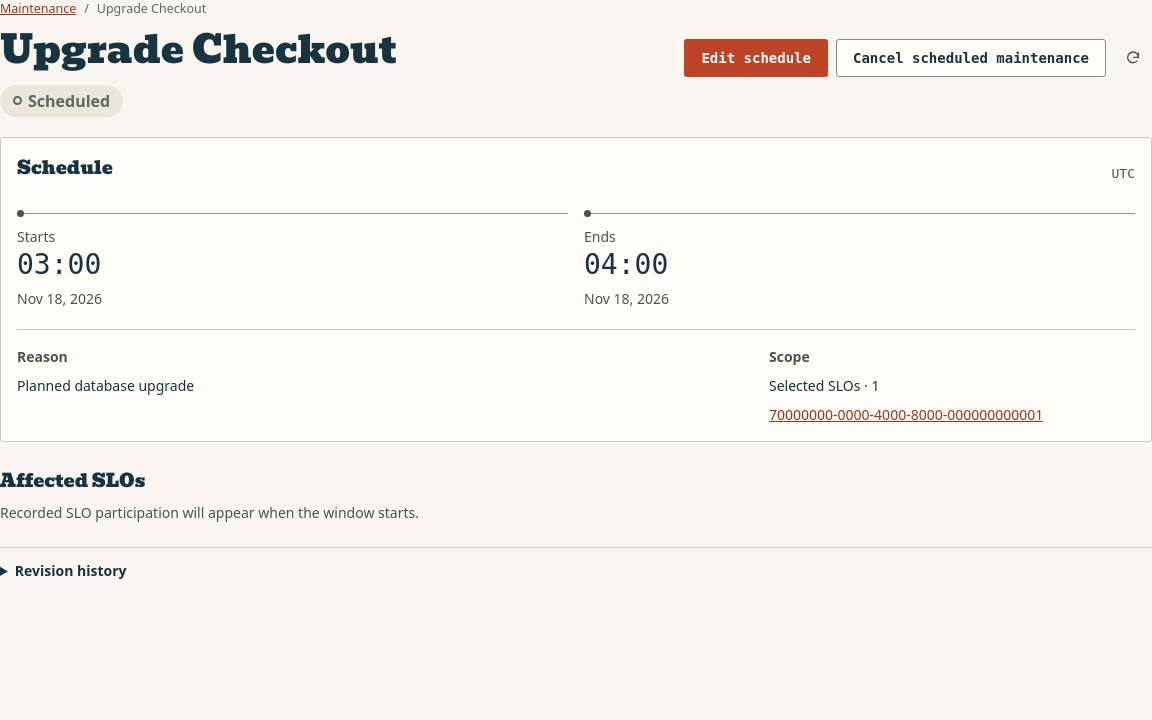
Scenario: allows dismissal while checking a revision and aborts the pending read
The image size is (1152, 720).
Click the button "Cancel scheduled maintenance" at (971, 58), box x1=836 y1=39 x2=1106 y2=77
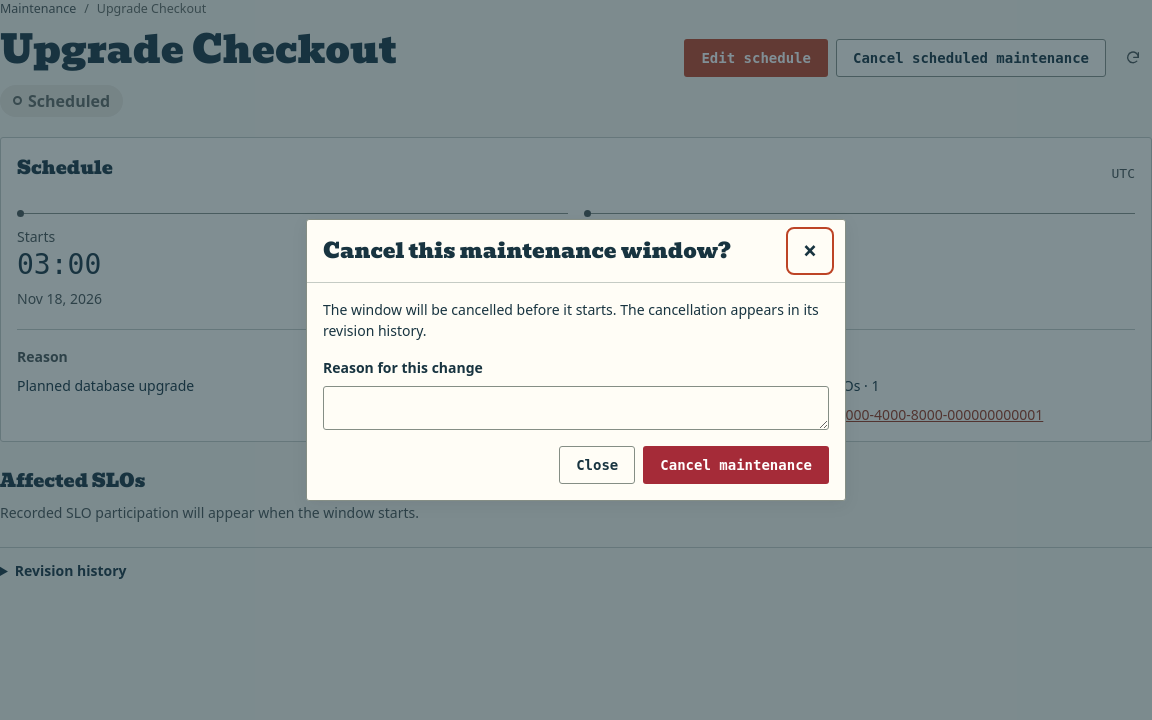
Type "Postpone the work." into the text box labelled "Reason for this change" at (576, 408), box x1=323 y1=386 x2=829 y2=430
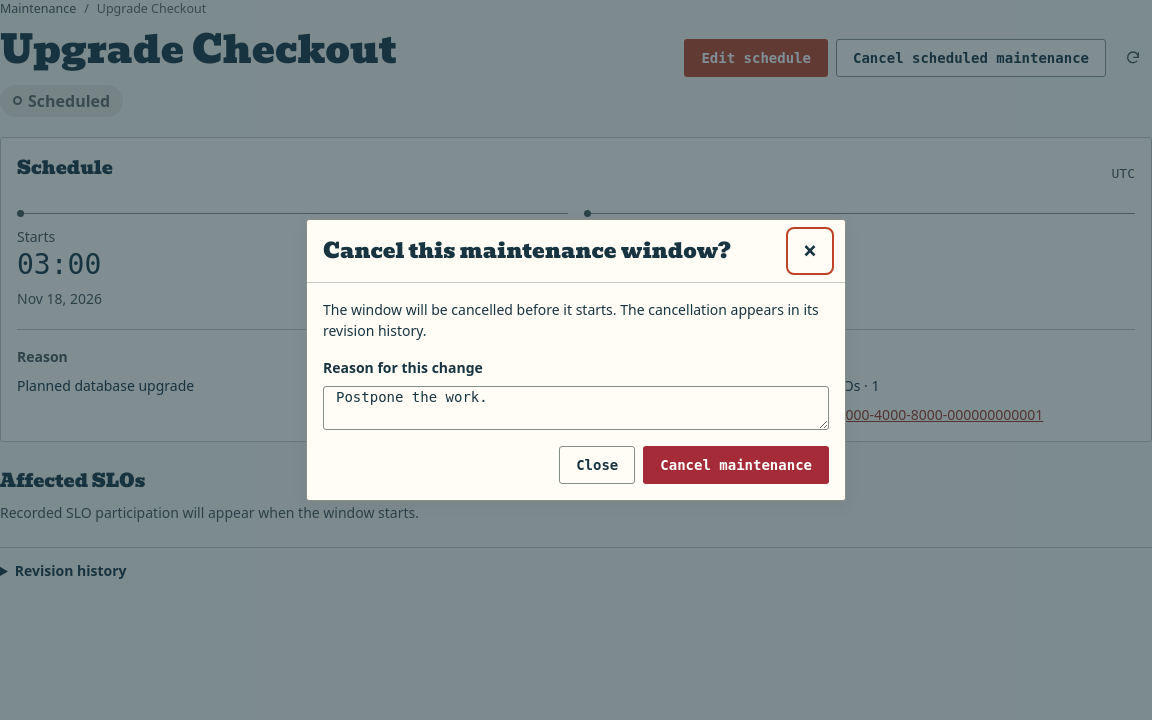
Click the button "Cancel maintenance" at (736, 465), box x1=643 y1=446 x2=829 y2=484
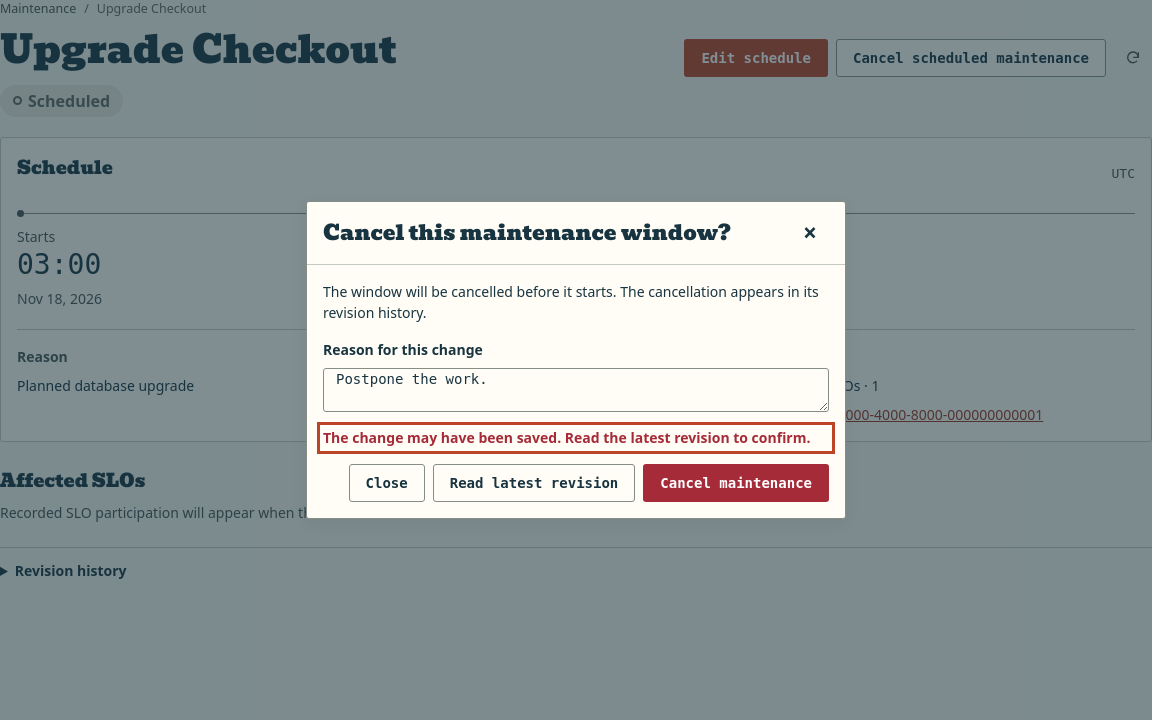
Click the button "Read latest revision" at (534, 483), box x1=433 y1=464 x2=635 y2=502
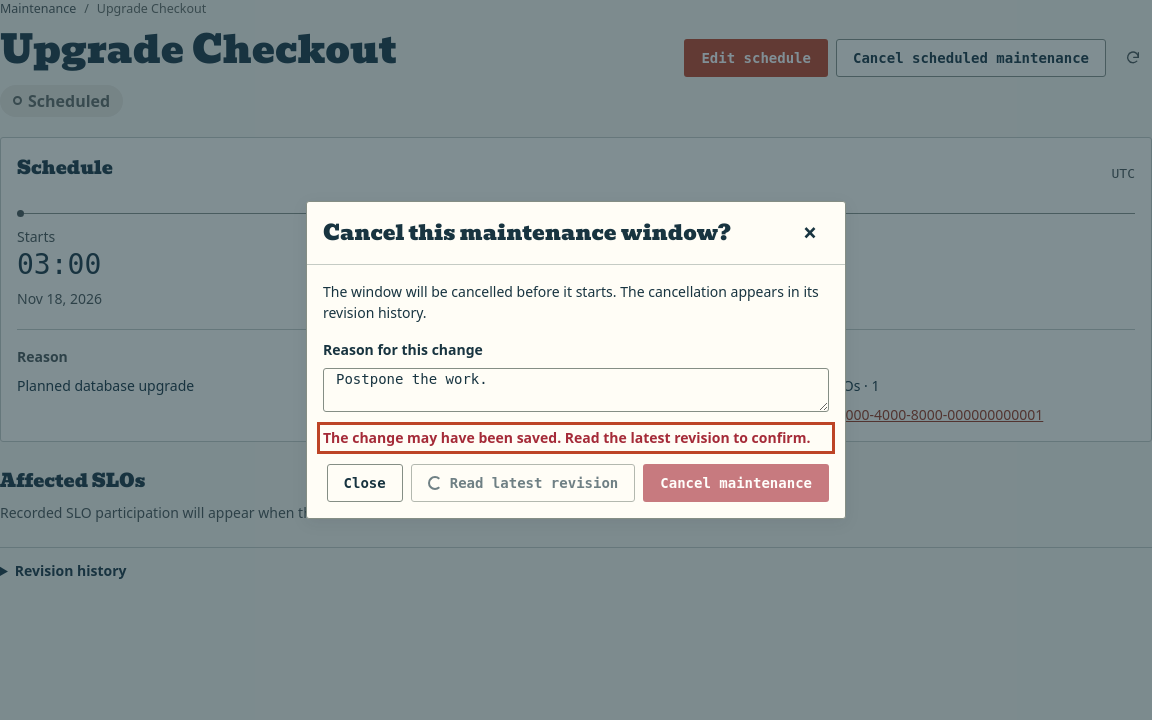
Click the button "Close" at (365, 483), box x1=326 y1=464 x2=403 y2=502
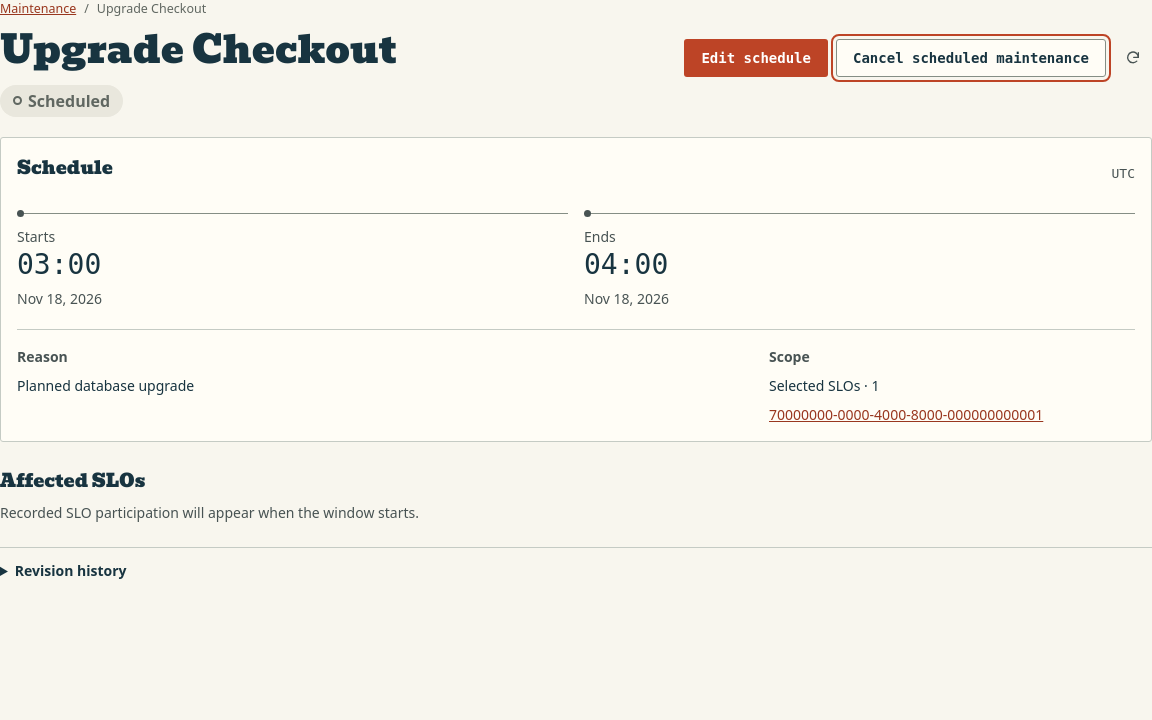
Result: the dialog is gone
